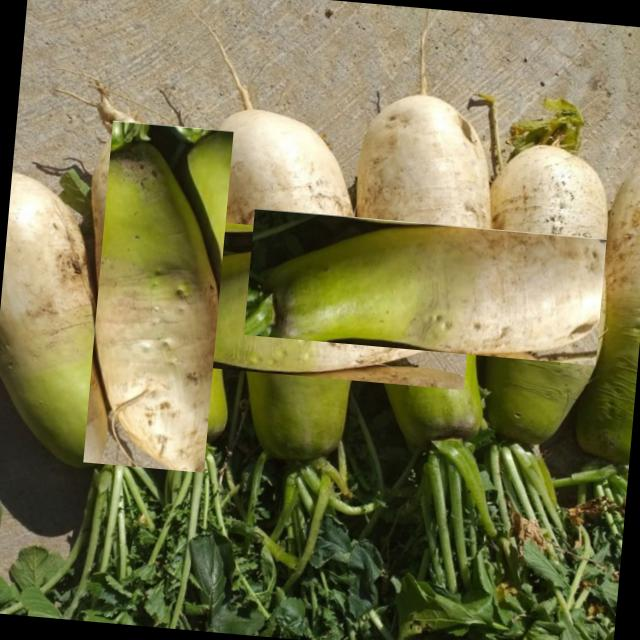radish: (155, 165, 428, 438), (294, 156, 556, 418), (82, 120, 234, 472)
